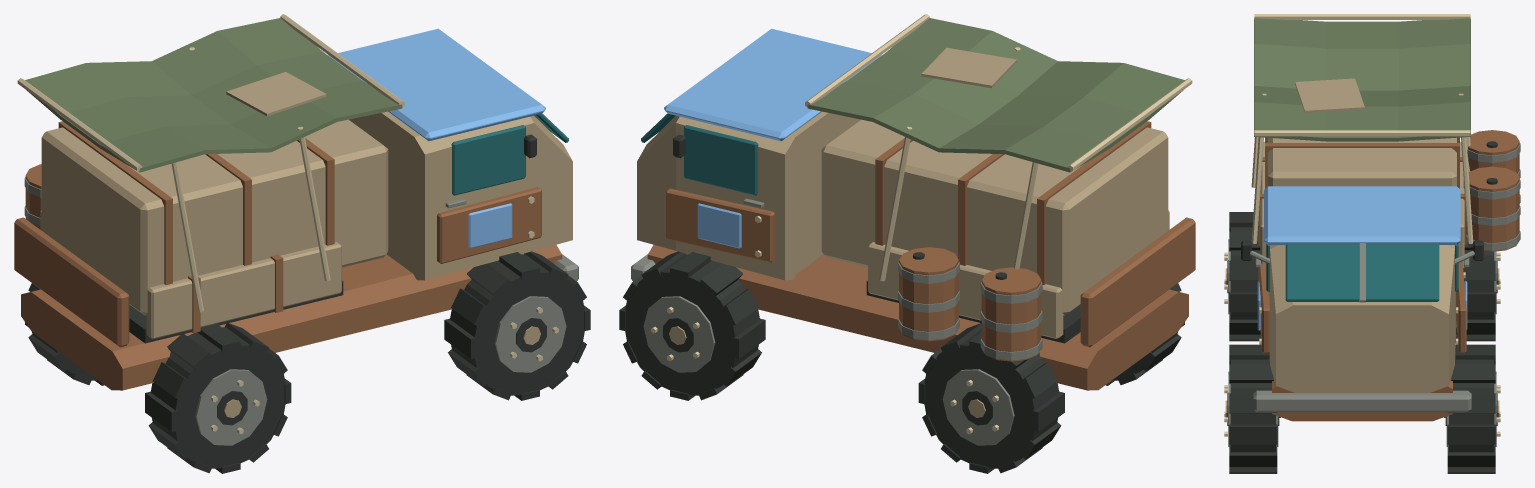
The model's file is bomb_truck.glb.
The picture shows the model from 3 angles, left to right: view 1: azimuth 30°, elevation 25°; view 2: azimuth 150°, elevation 25°; view 3: azimuth 270°, elevation 25°; orthographic projection. The views are drawn at different scales.
Visible parts, largest first — view 1: bomb_truck; view 2: bomb_truck; view 3: bomb_truck.
Boxes of the visible parts, bbox=[...] form: bomb_truck: bbox=[14, 14, 590, 473]; bomb_truck: bbox=[619, 14, 1195, 473]; bomb_truck: bbox=[1224, 14, 1520, 473].
Bounding box in the file's own units: 2.55 × 1.65 × 1.55.
